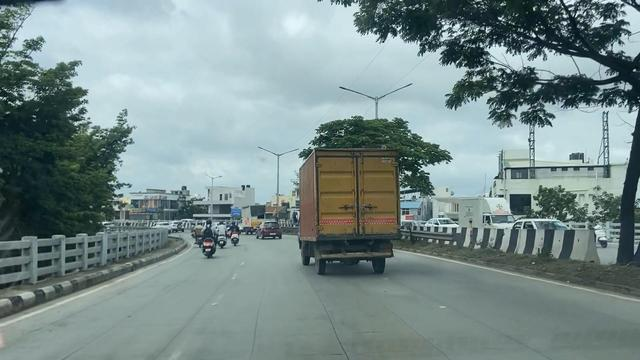HMV: (304, 146, 407, 276)
LMV: (203, 216, 218, 258), (260, 219, 281, 241), (231, 219, 245, 250)
